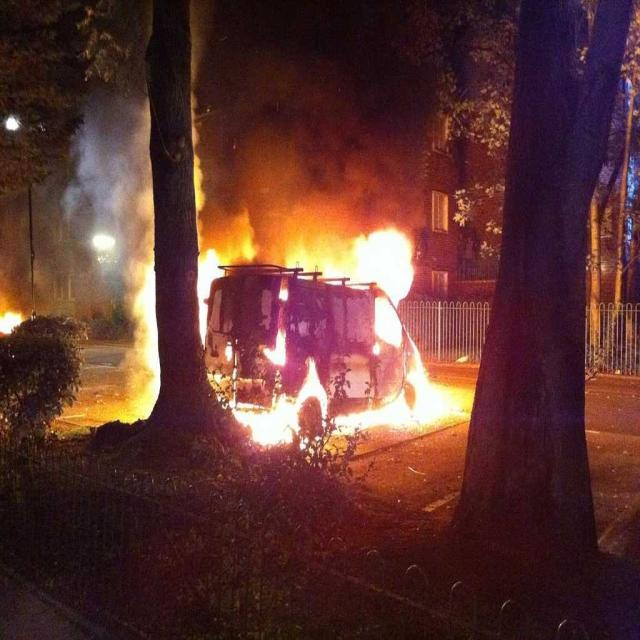Fire: (202, 218, 426, 297), (210, 378, 465, 428), (128, 251, 166, 408), (136, 257, 148, 266)
Smoke: (70, 98, 148, 226)
